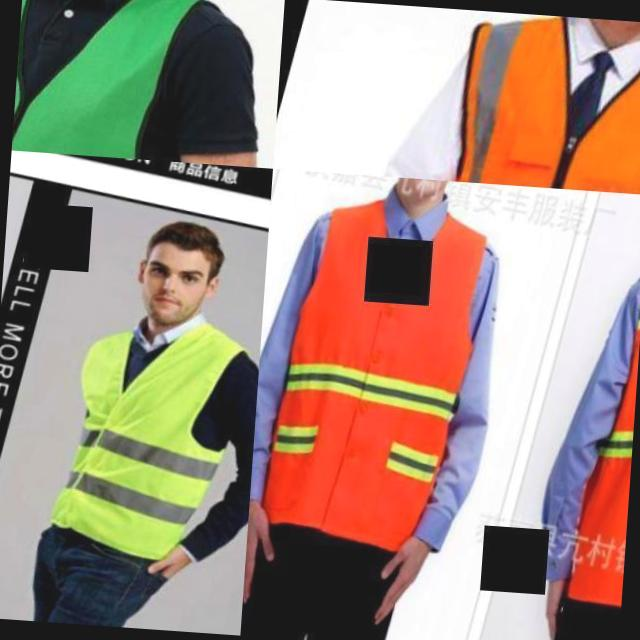vest: (245, 168, 518, 580), (36, 316, 242, 590), (392, 5, 640, 195), (11, 0, 246, 165), (553, 249, 640, 638)
